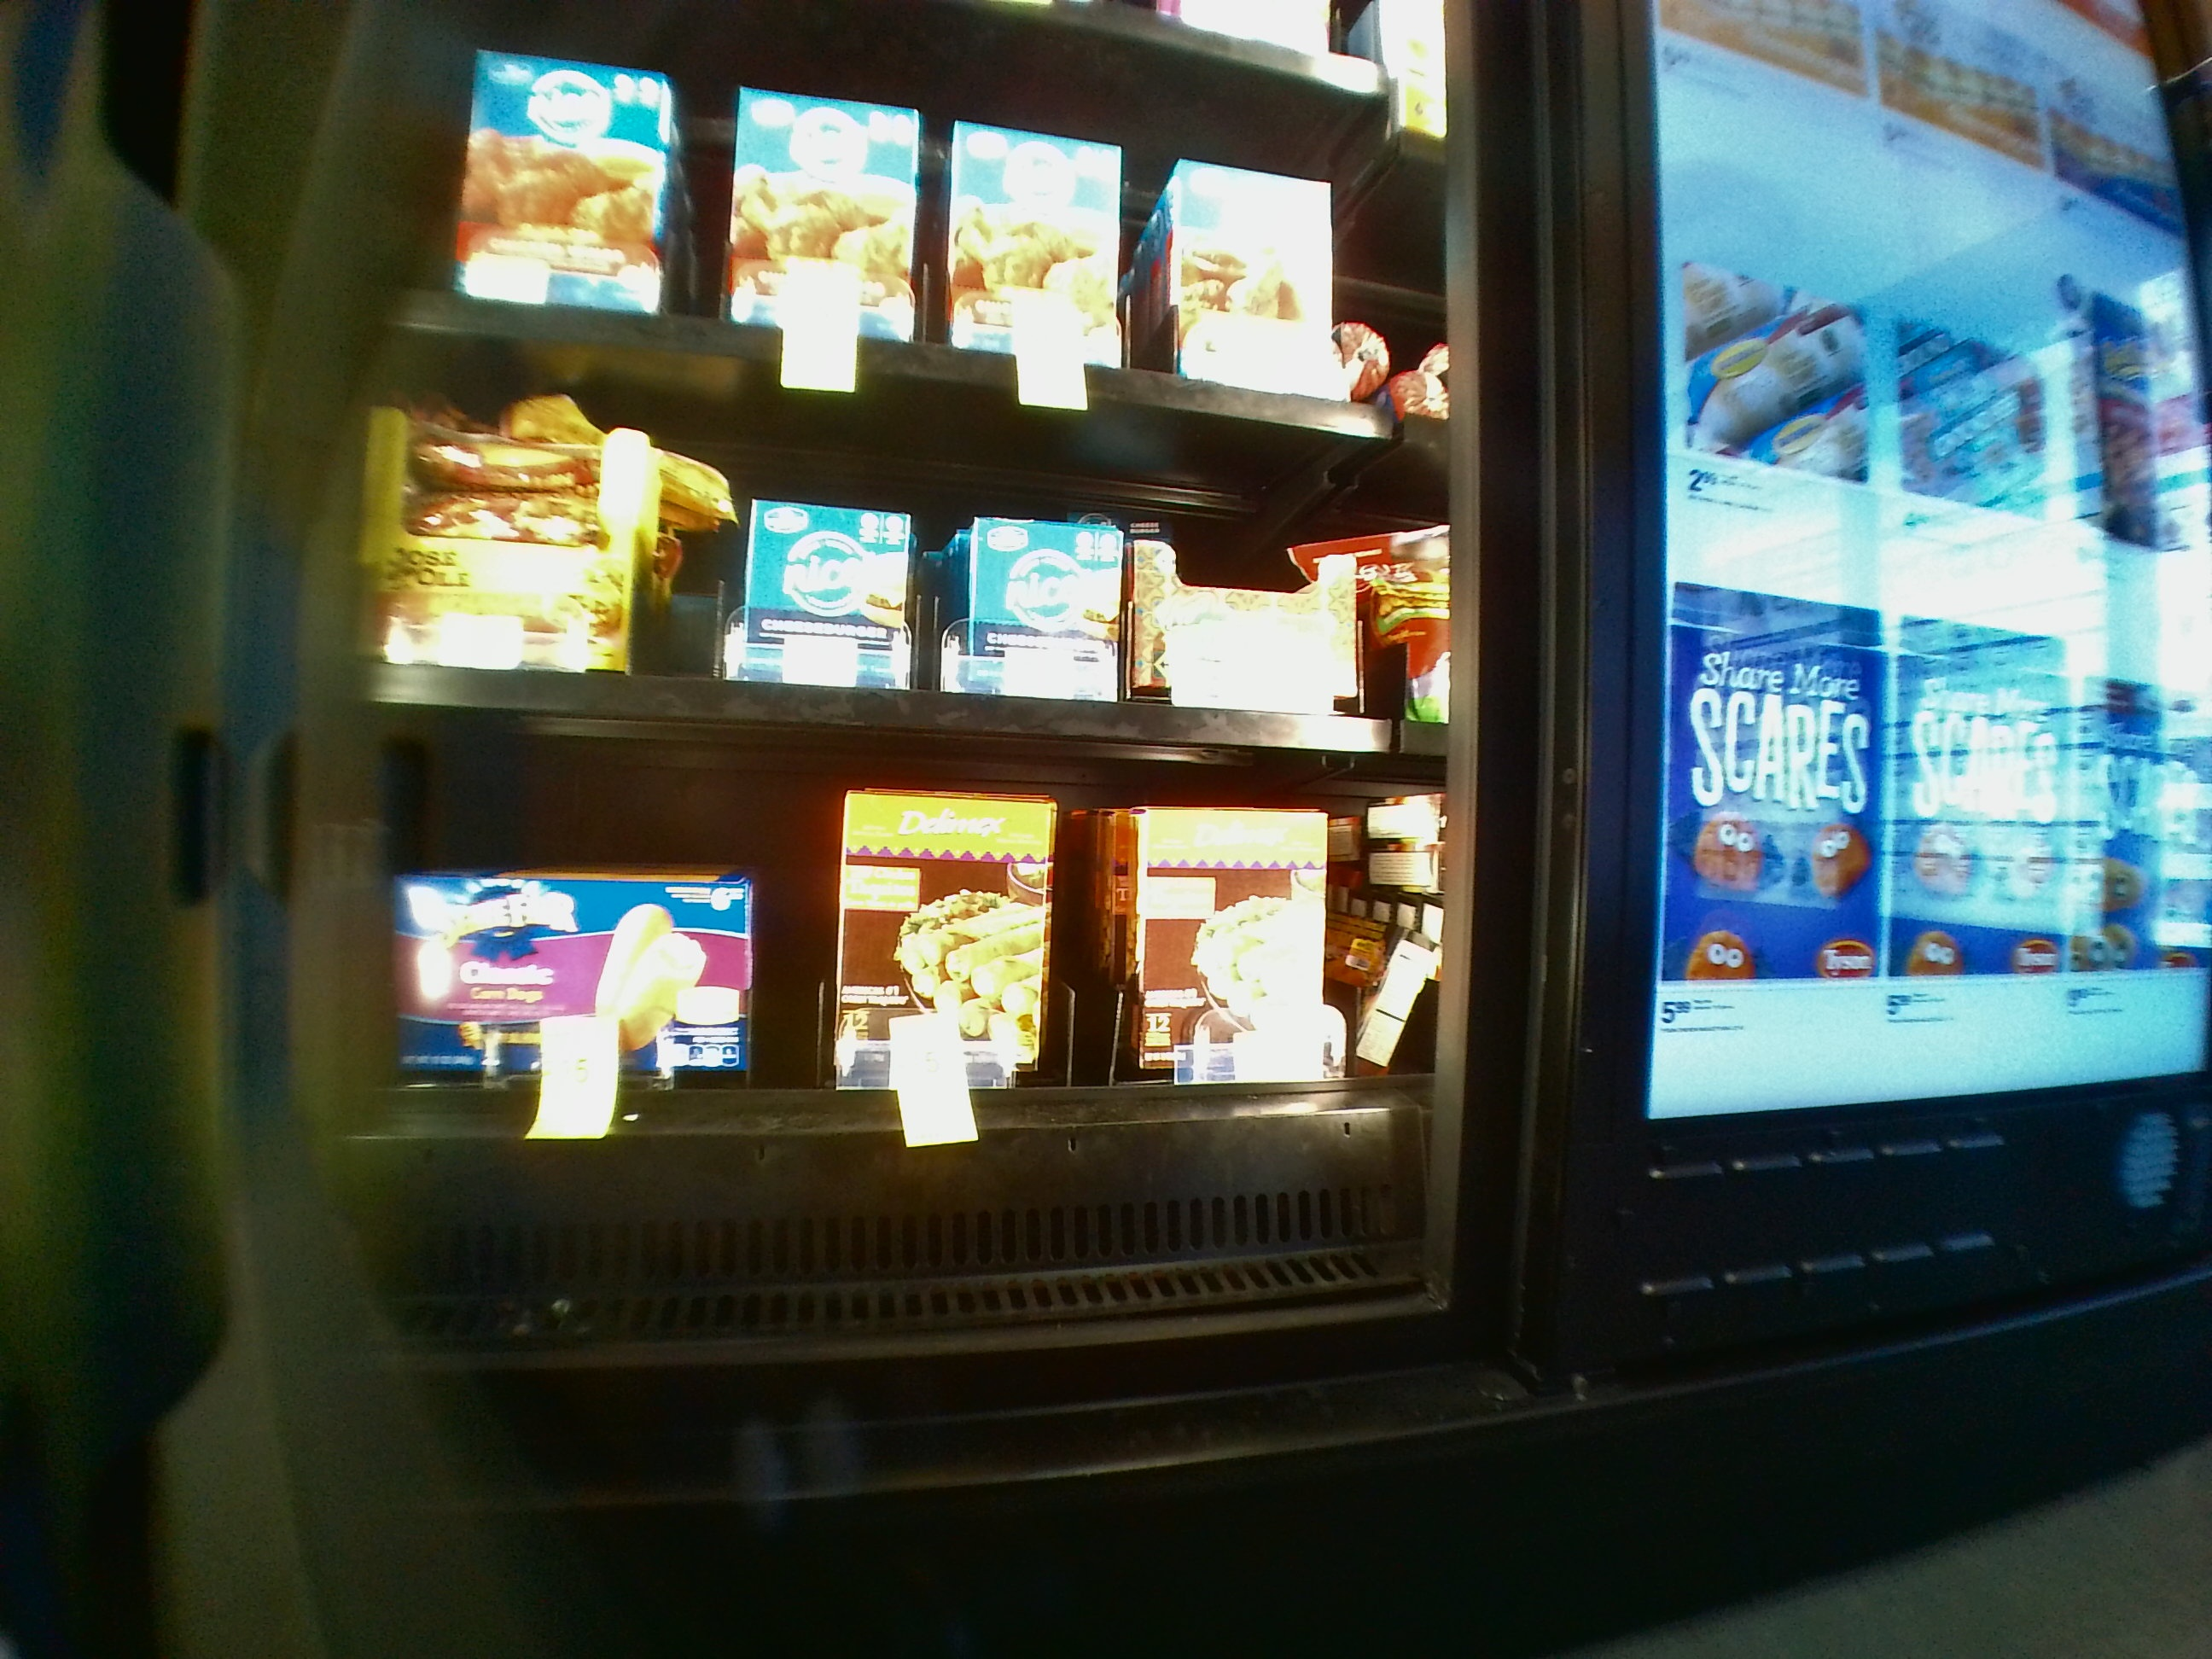shelf: (350, 706, 1433, 1309)
